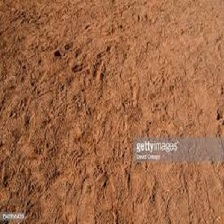sandy_soil: (9, 19, 211, 201)
